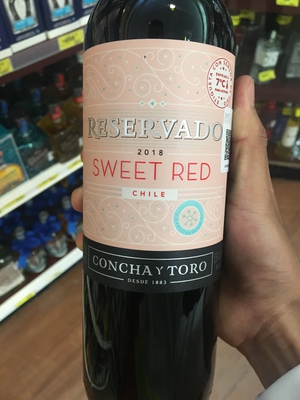reservado sweet red: (80, 4, 239, 400)
